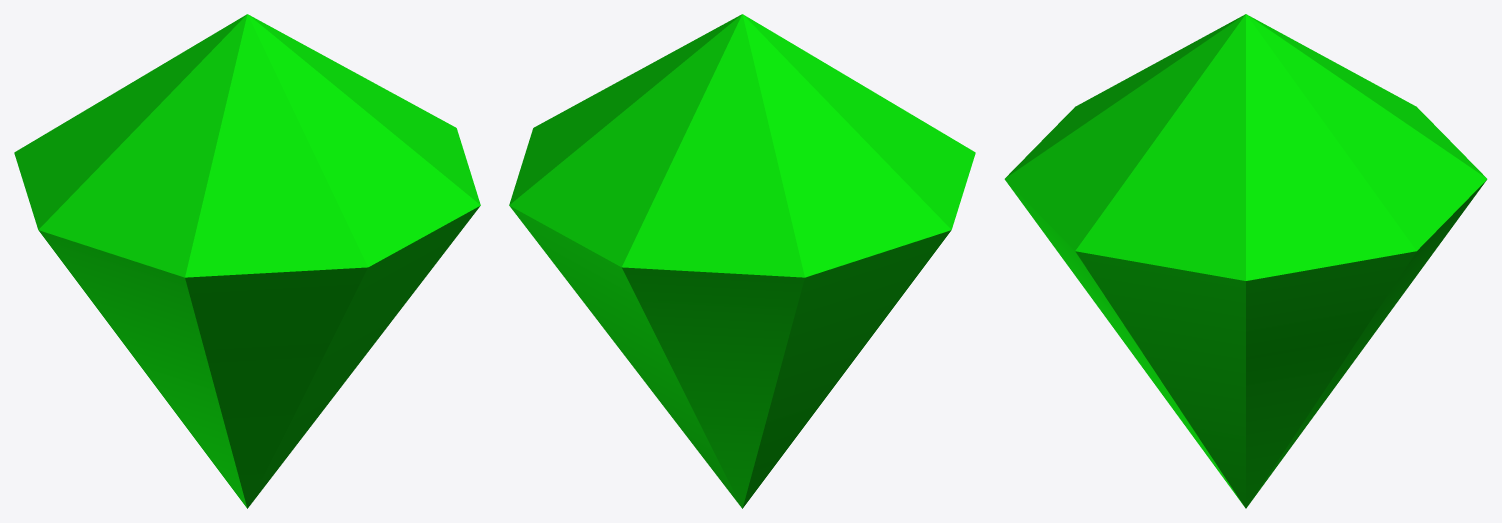
File: Diamond.fbx
3 views of the same model, side by side, from view 1: azimuth 30°, elevation 25°; view 2: azimuth 150°, elevation 25°; view 3: azimuth 270°, elevation 25° (orthographic).
Visible parts, largest first — view 1: Diamond; view 2: Diamond; view 3: Diamond.
Boxes of the visible parts, left/top/right/bottom form: Diamond: left=14, top=14, right=480, bottom=508; Diamond: left=509, top=14, right=975, bottom=508; Diamond: left=1004, top=14, right=1487, bottom=508.
Size of the model in its own units: 40 by 45.21 by 40.
